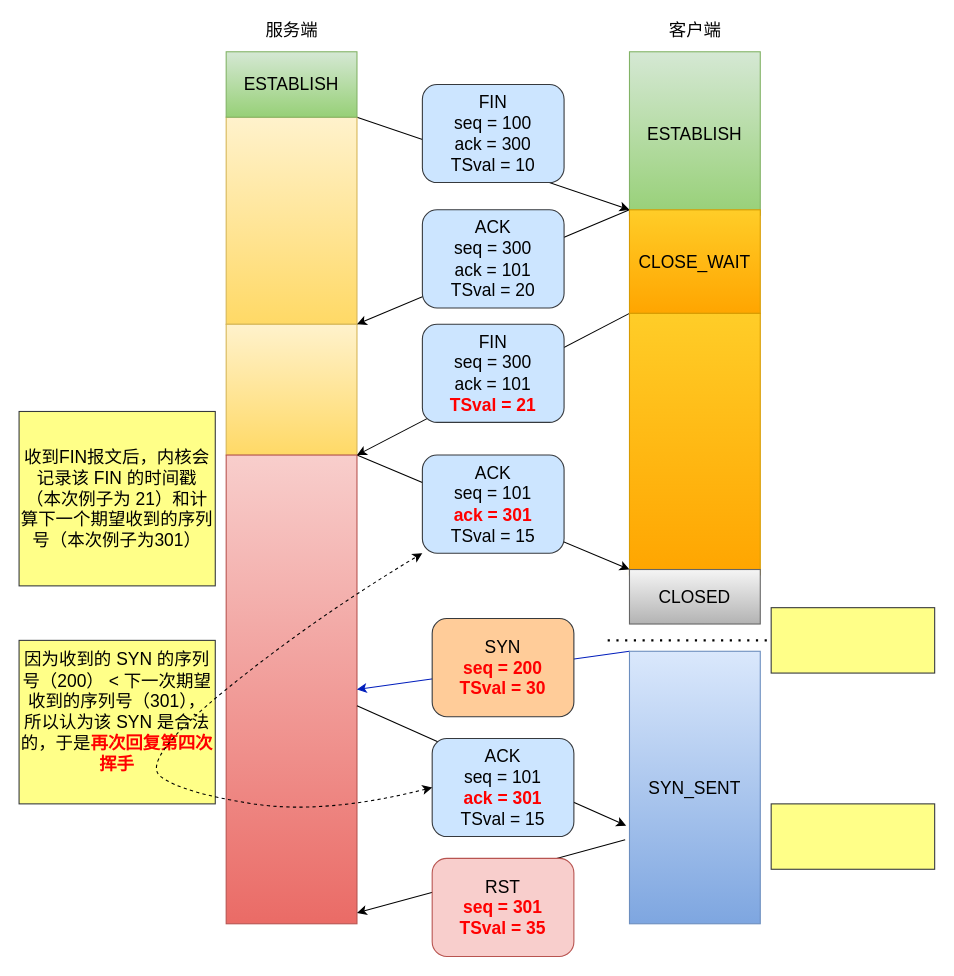
This 954x976 diagram has some shape labels left out. The box of each missing label's shape, as (x1, y1, x2, y2) in pixels:
FIN_WAIT_1: (225, 116, 357, 324)
FIN_WAIT_2: (225, 323, 357, 455)
LAST_ACK: (628, 312, 760, 575)
TIME_WAIT: (225, 454, 357, 924)
因为期望收到的 ack 是 200 + 1，而不是 301，所以回 RST: (770, 803, 935, 869)
客户端快速发起了相同四元组的 SYN 包: (770, 607, 935, 673)
